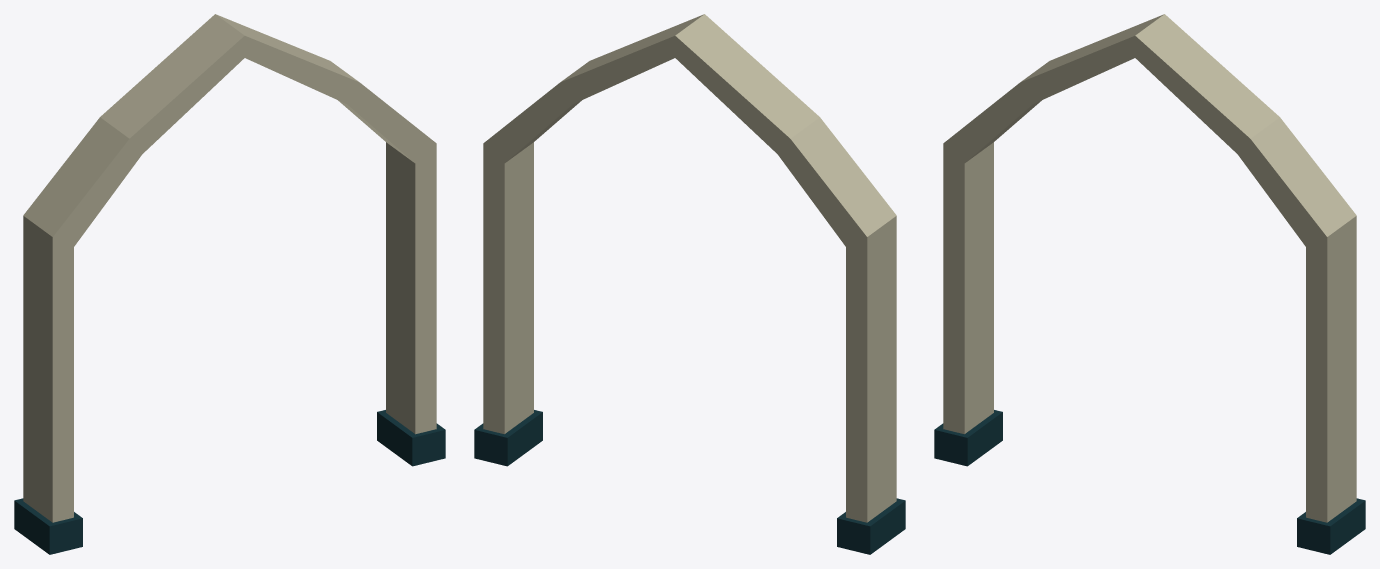
The model's file is WP_A10_arch_grand_v02.glb.
3 views of the same model, side by side, from view 1: azimuth 30°, elevation 25°; view 2: azimuth 150°, elevation 25°; view 3: azimuth 330°, elevation 25° (orthographic).
Parts seen in each view (by area): view 1: ArchFrame.001; view 2: ArchFrame.001; view 3: ArchFrame.001.
Boxes of the visible parts, x1=… form: ArchFrame.001: x1=14, y1=14, x2=445, y2=554; ArchFrame.001: x1=474, y1=14, x2=905, y2=554; ArchFrame.001: x1=934, y1=14, x2=1365, y2=554.
Bounding box in the file's own units: 4.64 × 5.25 × 0.72.
